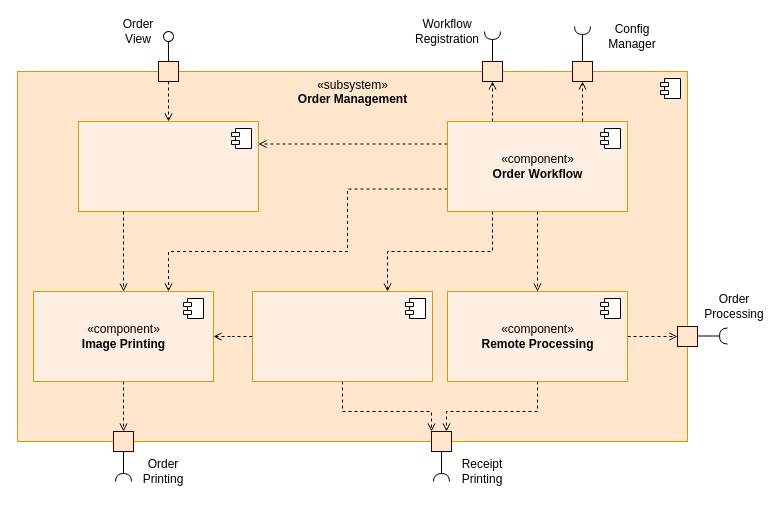
Image size: 781x507. Some labels were removed from this diagram. The centre of each missing label's shape, as x and y in pixels:
«component» Locale Processing: [342,336]
«component» Workflow UI: [168,166]
